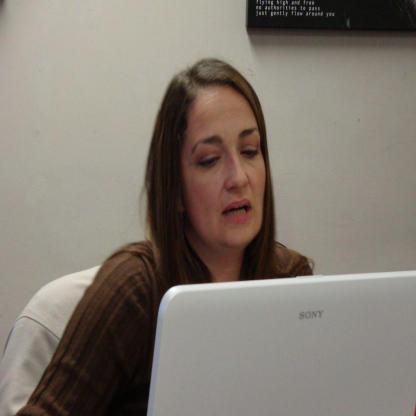board: (138, 274, 416, 410)
